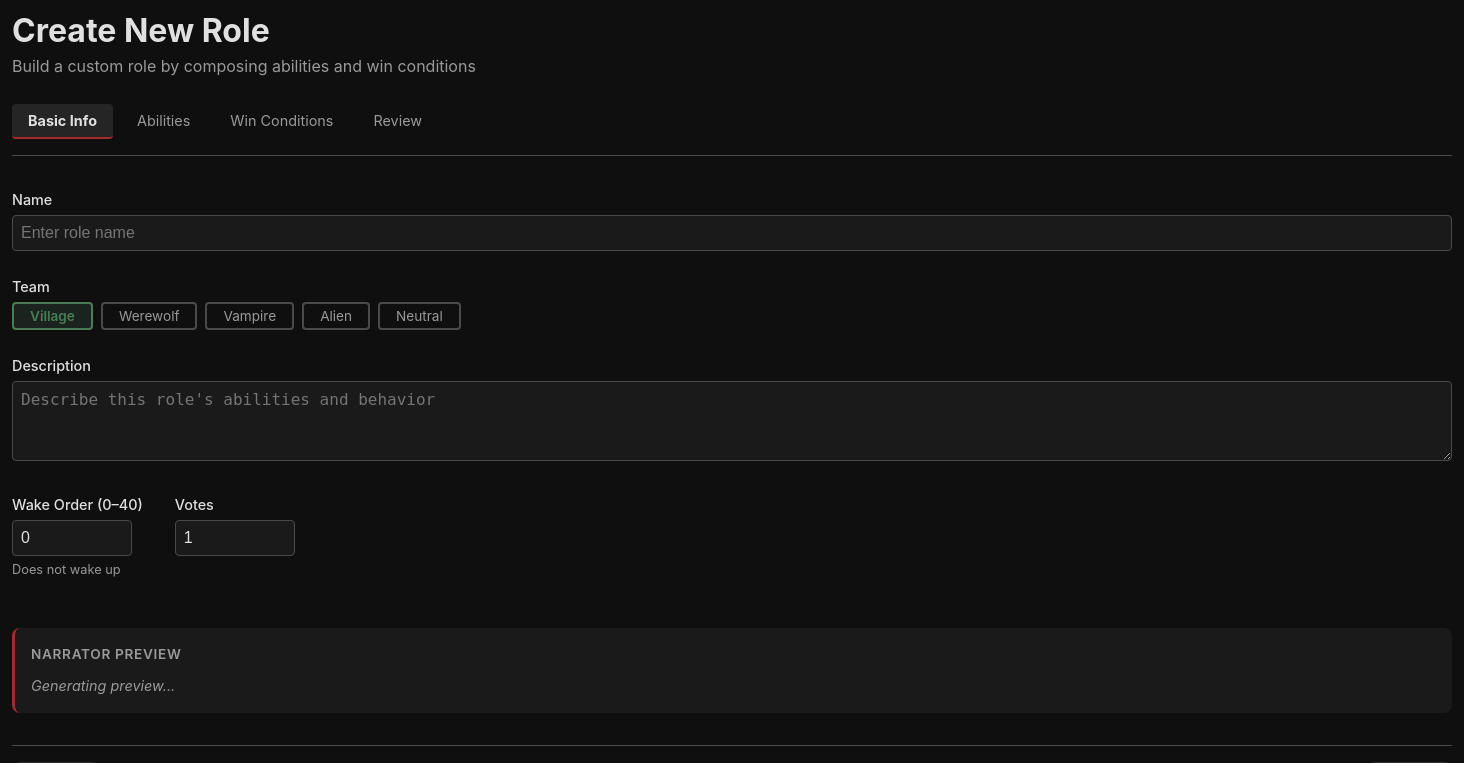
Test: RoleBuilderPage › renders only the newest preview after rapid draft edits
The width and height of the screenshot is (1464, 763).
In the field labelled "Name": (732,233) top-left (12, 215), bottom-right (1452, 251), type "S"
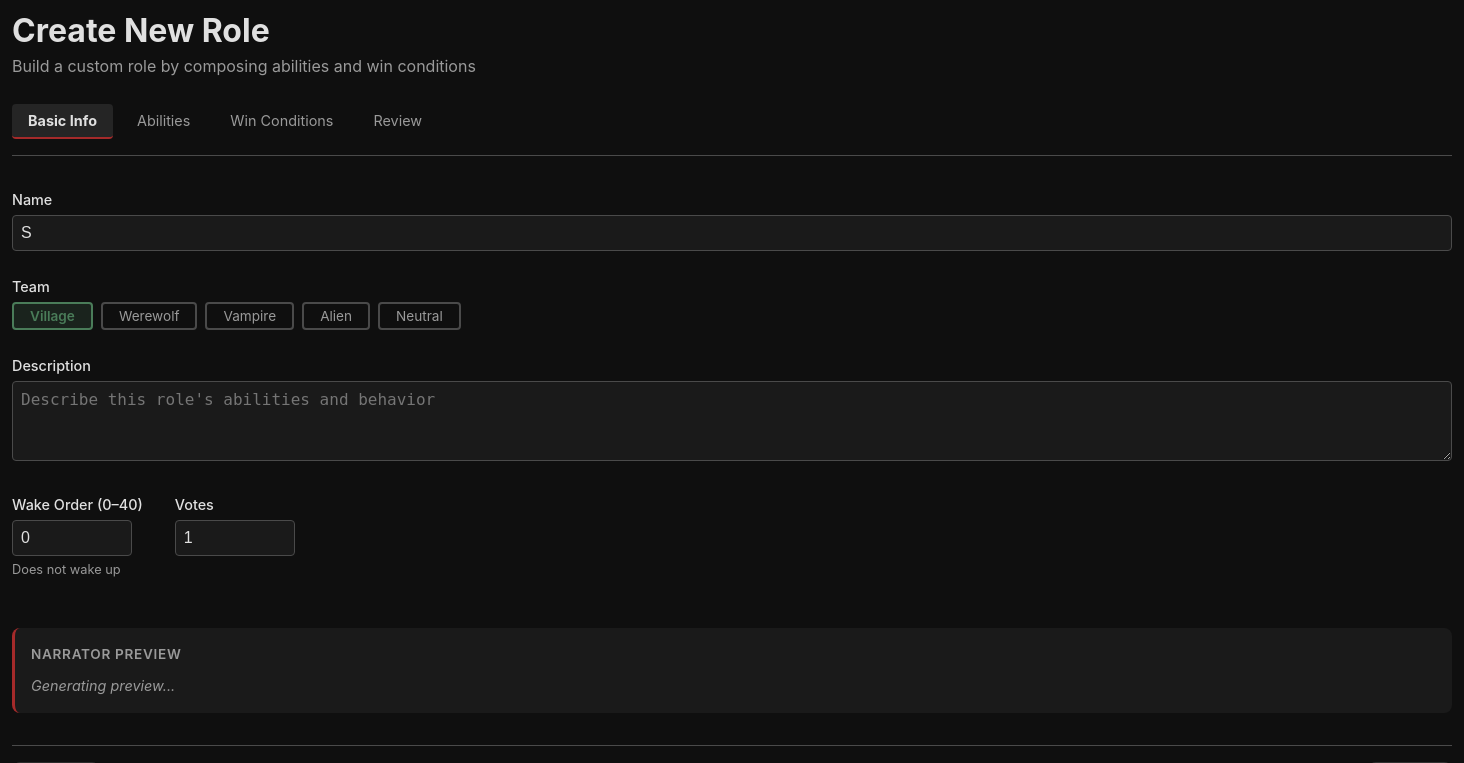
Replace the text in the field labelled "Name" with "Se": (732,233) top-left (12, 215), bottom-right (1452, 251)
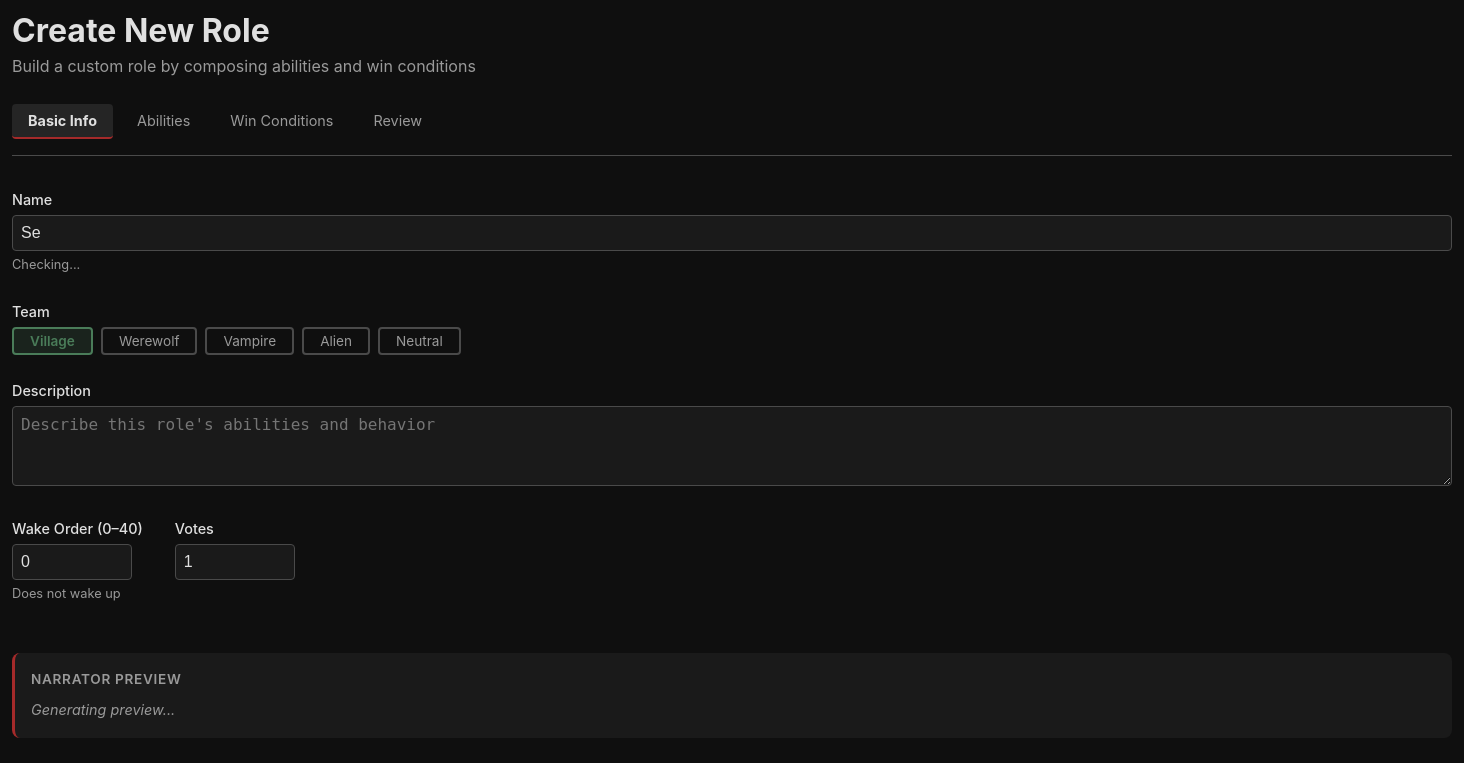
Replace the text in the field labelled "Name" with "Seer": (732,233) top-left (12, 215), bottom-right (1452, 251)
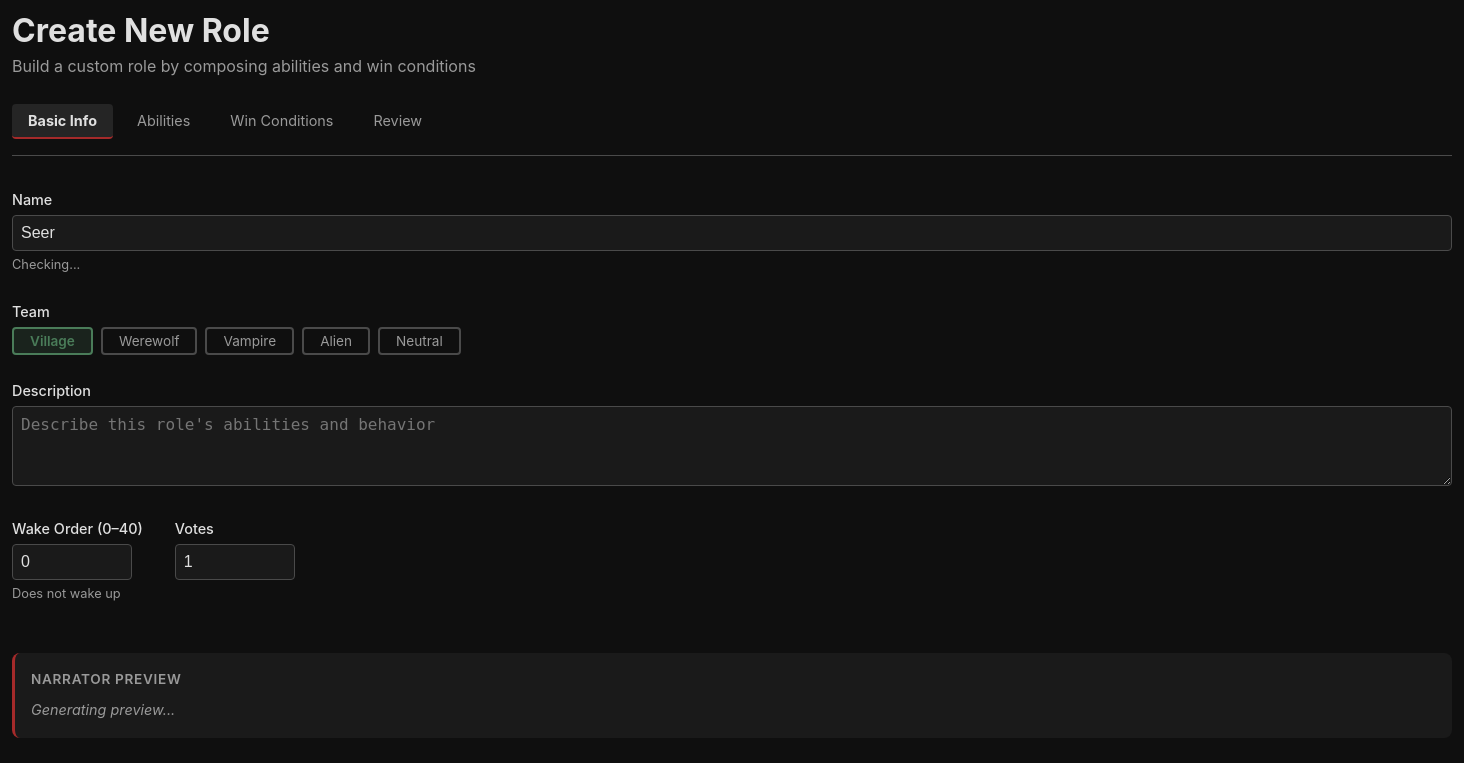
Replace the text in the number field labelled "Wake Order (0–40)" with "4": (72,562) top-left (12, 544), bottom-right (132, 580)
Wait 1000 ms
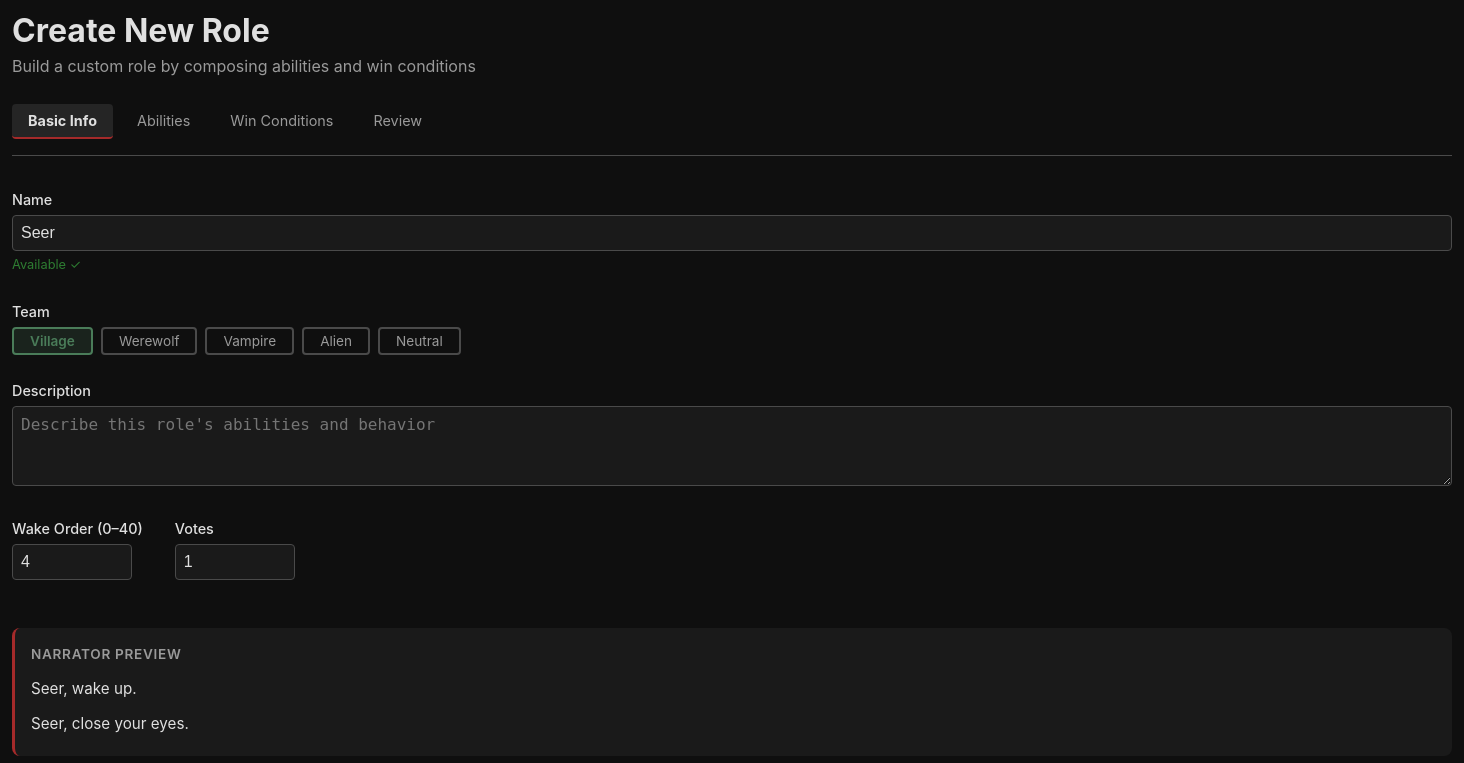
Check: the list item "Seer, wake up." is shown, box top-left (31, 679), bottom-right (137, 698)
